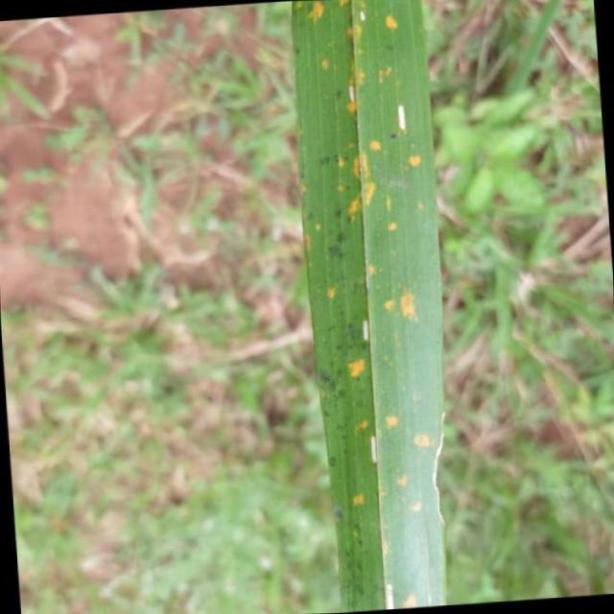Kalium: (293, 0, 441, 614)
